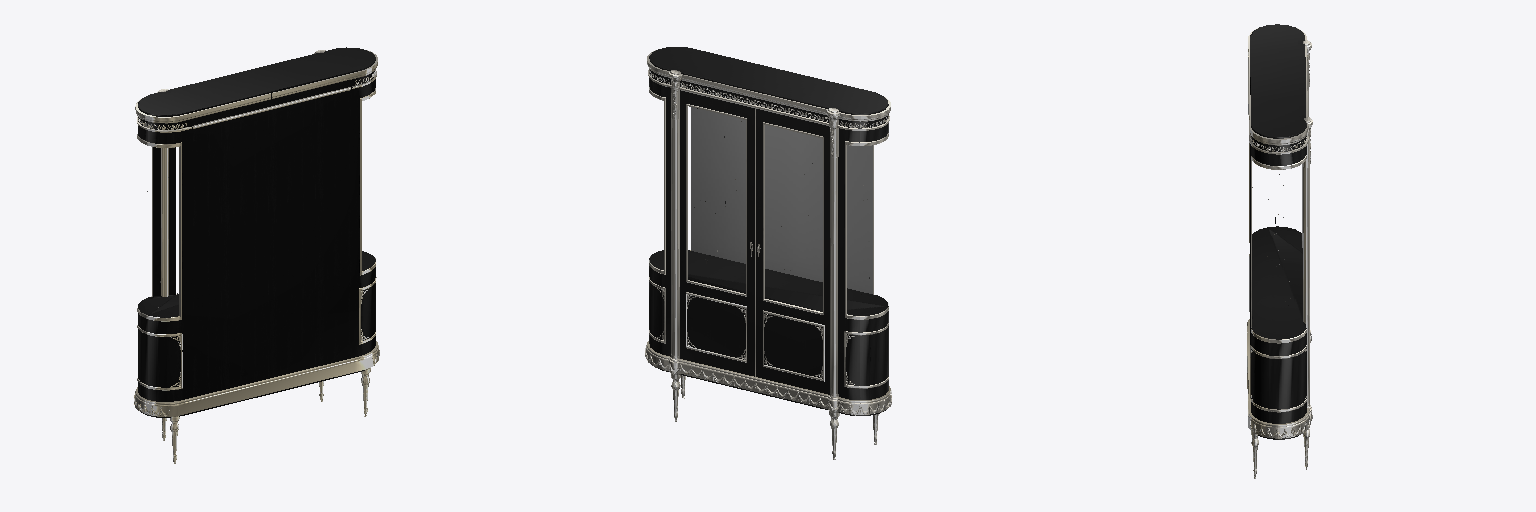
3 views of the same model, side by side, from view 1: azimuth 30°, elevation 25°; view 2: azimuth 150°, elevation 25°; view 3: azimuth 270°, elevation 25° (orthographic).
Parts seen in each view (by area): view 1: glass_001_wire; view 2: glass_001_wire; view 3: glass_001_wire.
Boxes of the visible parts, x1,y1,x2,y2 form: glass_001_wire: [134, 47, 379, 463]; glass_001_wire: [645, 47, 891, 459]; glass_001_wire: [1247, 24, 1312, 478].
Size of the model in its own units: 1.75 by 2.46 by 0.4225.
Materials: 1 (1 with a texture image).